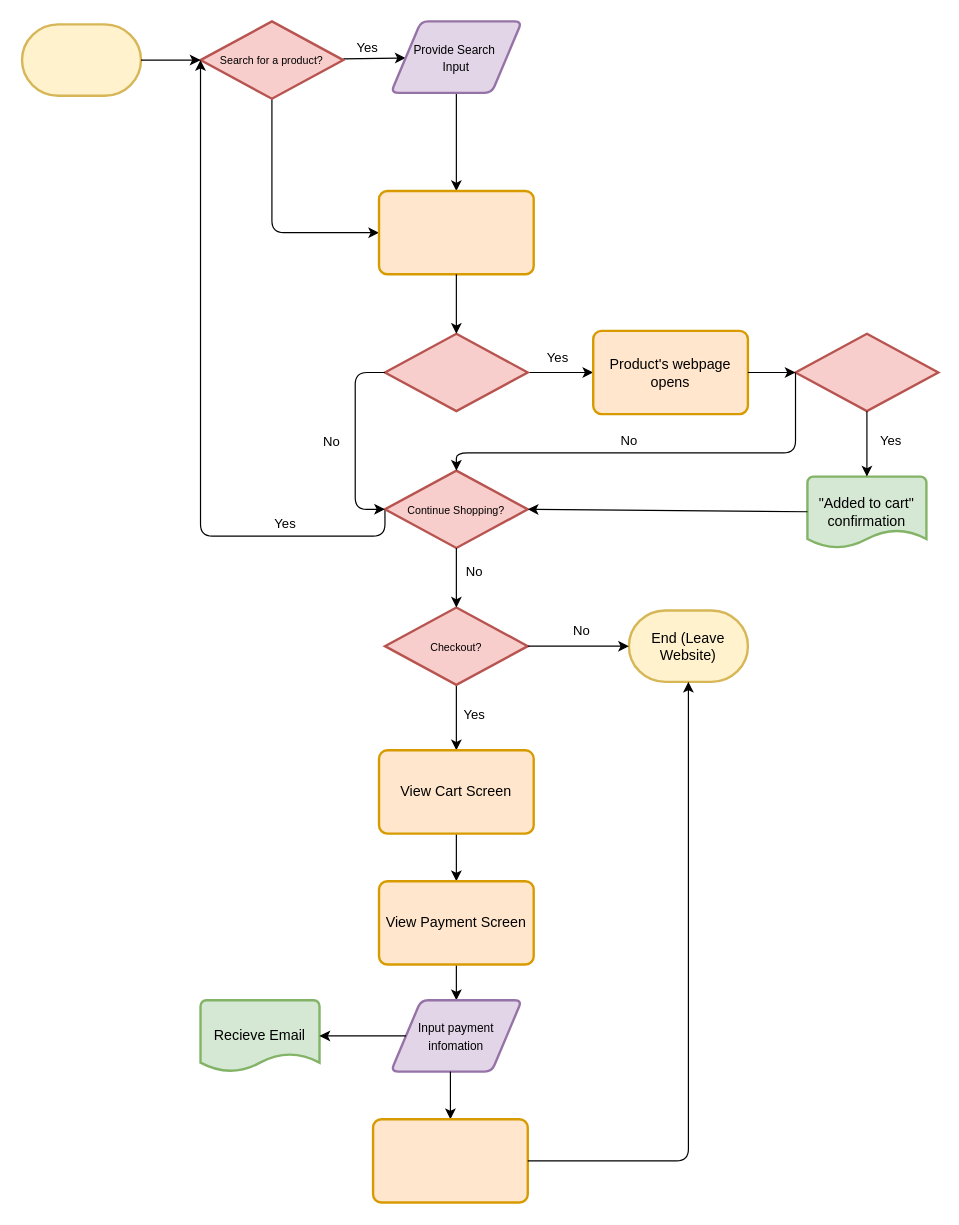
The diagram is 959 pixels wide and 1225 high, and some of its shapes have lost their labels. The shapes that lost their labels are listed below. From the top down, each one's centre as x and y in pixels, then its label:
(x=81, y=59): Start (user enters website)
(x=455, y=232): Look Over Products
(x=455, y=372): View specific product?
(x=866, y=372): Add item to cart?
(x=449, y=1160): Order Confirmation Screen
